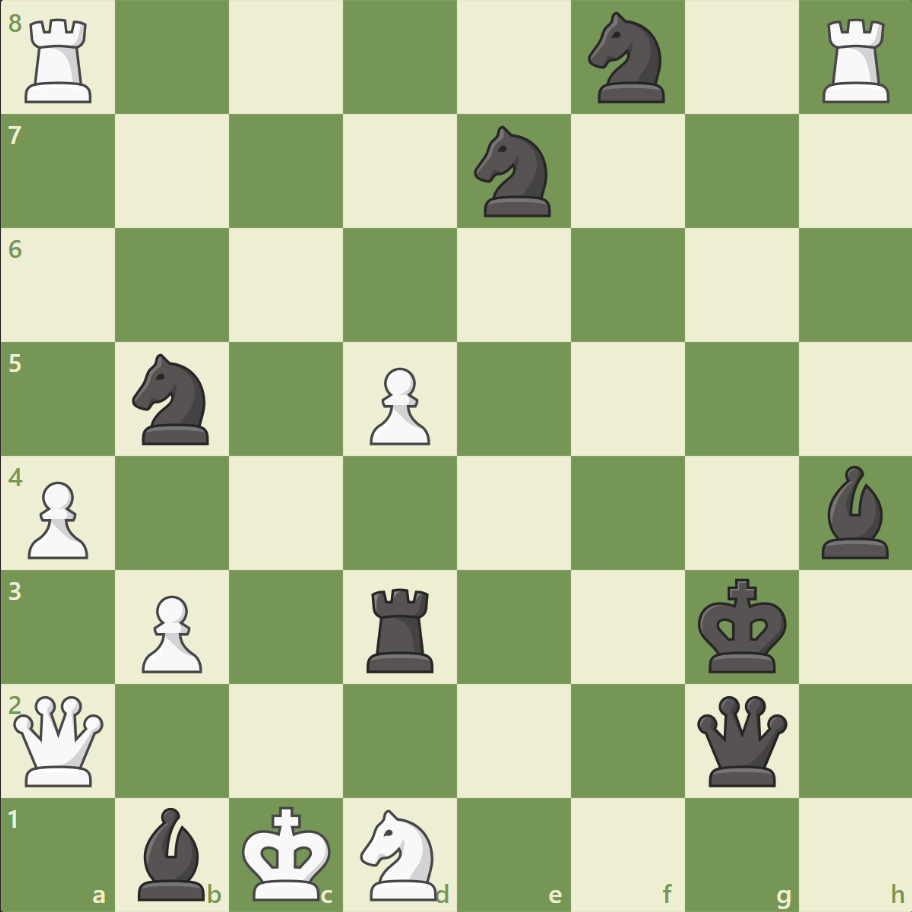K: (238, 798, 338, 906)
N: (351, 802, 449, 904)
P: (20, 473, 95, 564), (133, 586, 208, 677), (361, 359, 435, 450)
Q: (10, 690, 109, 789)
R: (19, 12, 102, 109), (814, 12, 897, 109)
b: (812, 460, 896, 563), (131, 801, 215, 904)
k: (692, 571, 792, 679)
n: (124, 348, 222, 450), (579, 7, 676, 110), (465, 121, 562, 223)
q: (691, 690, 790, 789)
r: (360, 579, 442, 676)
